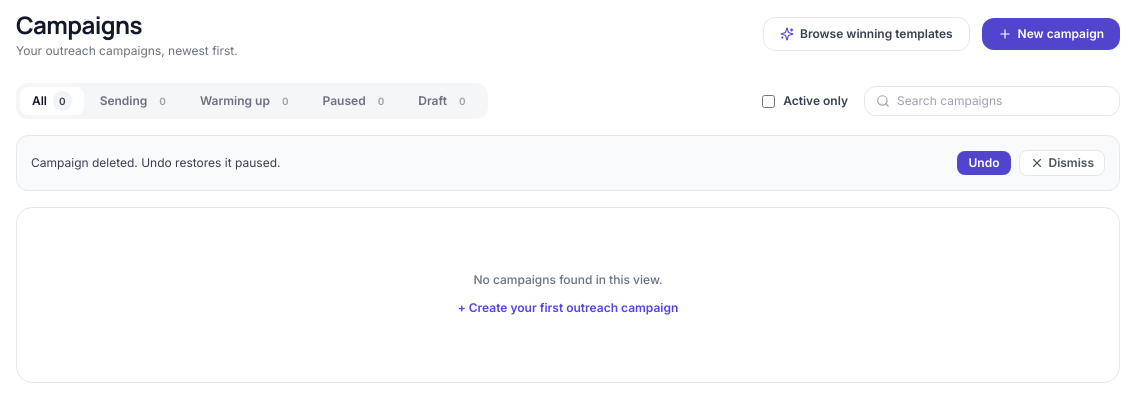
Scenario: Campaign deletion recovery › allows dismissing a completed deletion notice and removes its reference from sessionStorage
This screenshot has width=1137, height=400.
Click the button "Dismiss" at point(1062, 163), box [1020, 150, 1105, 176]
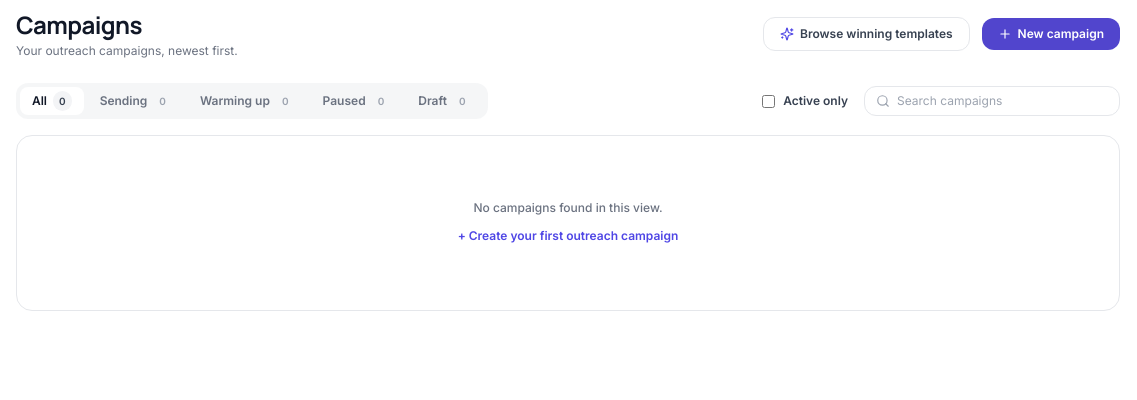
Now the text "Undo restores it paused" is gone
